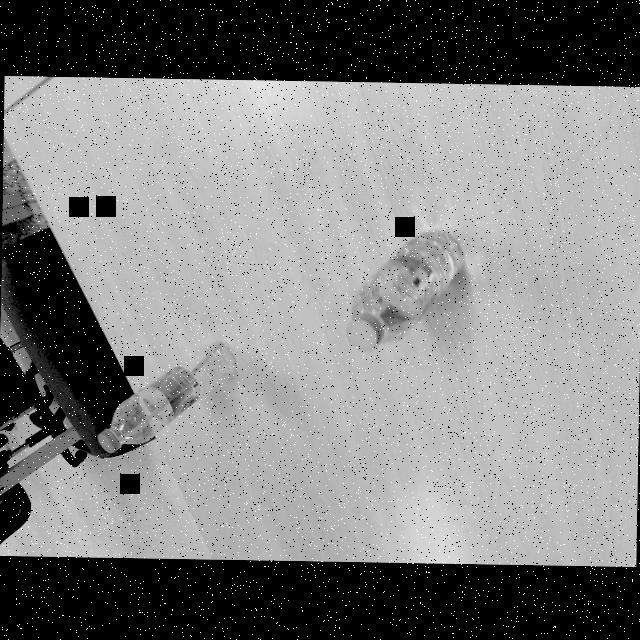plastic_bottle: (93, 336, 240, 456), (342, 222, 472, 350)
